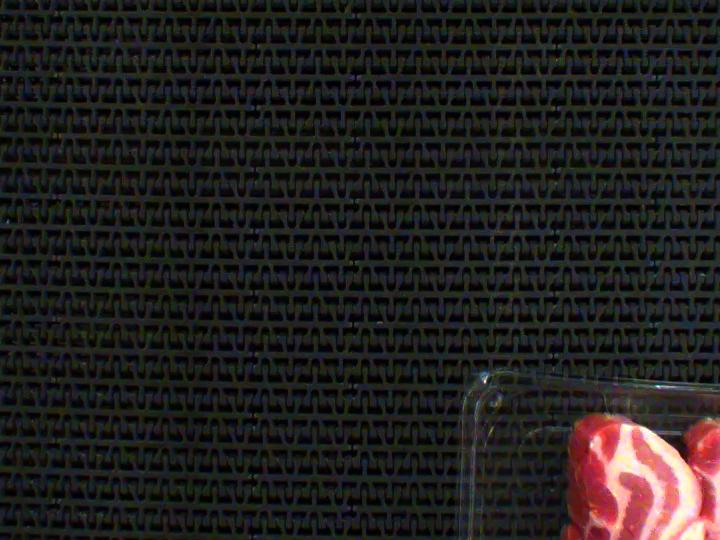packaging-error: (597, 390, 638, 422)
